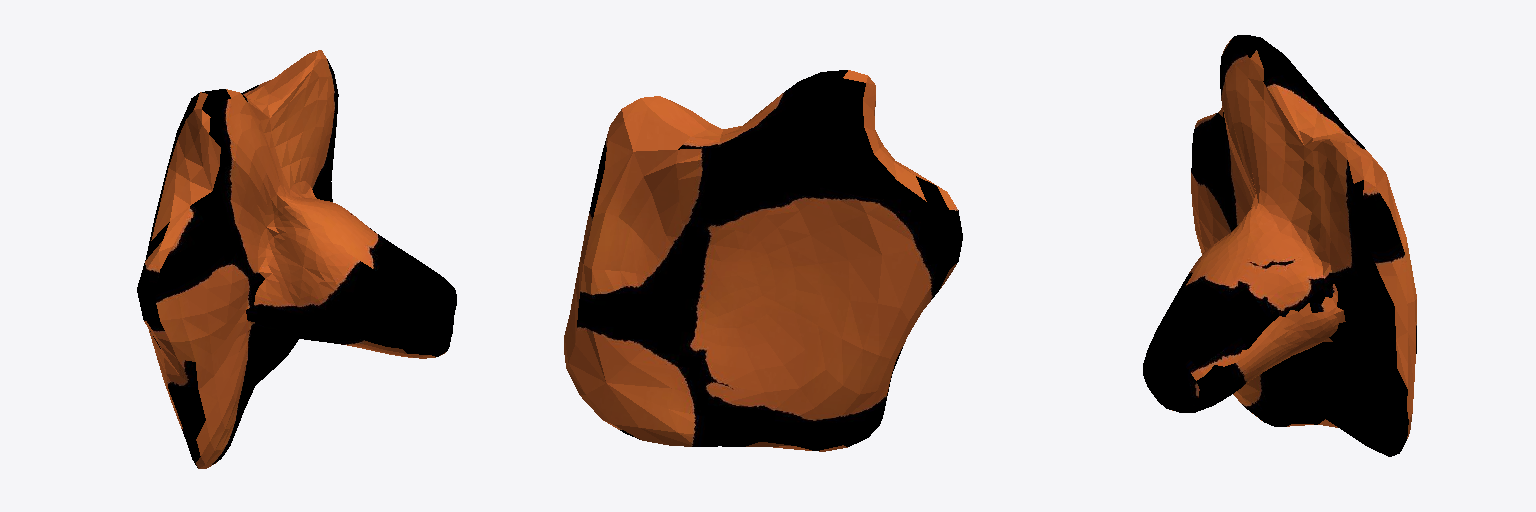
3 views of the same model, side by side, from view 1: azimuth 30°, elevation 25°; view 2: azimuth 150°, elevation 25°; view 3: azimuth 270°, elevation 25° (orthographic).
Size of the model in its own units: 0.0692 by 0.0807 by 0.0528.
Materials: 1 (1 with a texture image).